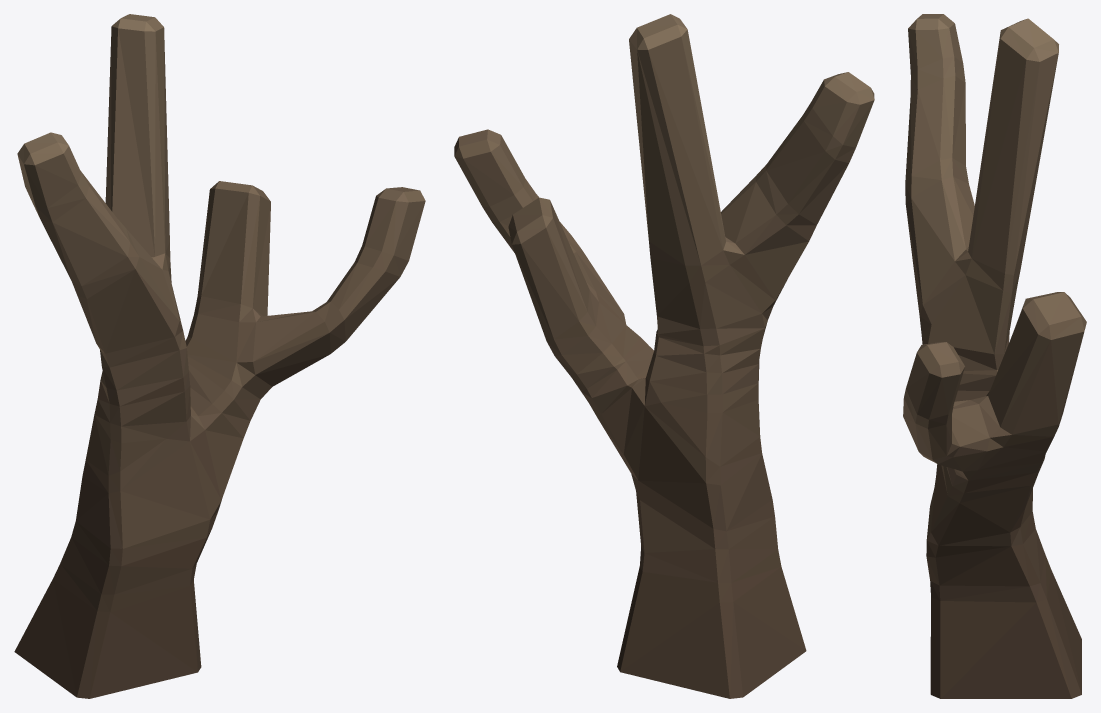
File: DressDeadTreeA.glb
3 views of the same model, side by side, from view 1: azimuth 30°, elevation 25°; view 2: azimuth 150°, elevation 25°; view 3: azimuth 270°, elevation 25° (orthographic). The views are drawn at different scales.
Parts seen in each view (by area): view 1: DressDeadTreeA; view 2: DressDeadTreeA; view 3: DressDeadTreeA.
Boxes of the visible parts, bbox=[...] form: DressDeadTreeA: bbox=[14, 14, 425, 698]; DressDeadTreeA: bbox=[454, 14, 874, 698]; DressDeadTreeA: bbox=[903, 14, 1086, 698].
Size of the model in its own units: 3.53 by 5.2 by 1.31.
